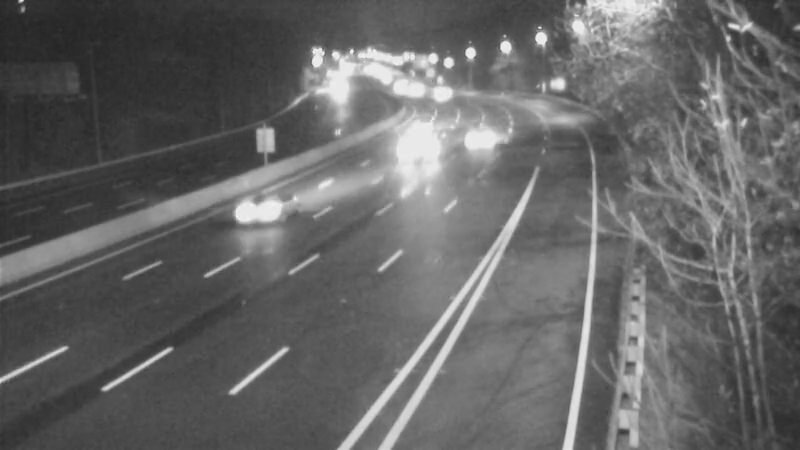vehicle: (210, 172, 290, 252), (418, 66, 468, 116), (397, 99, 447, 149), (451, 107, 501, 157), (415, 111, 465, 161)
